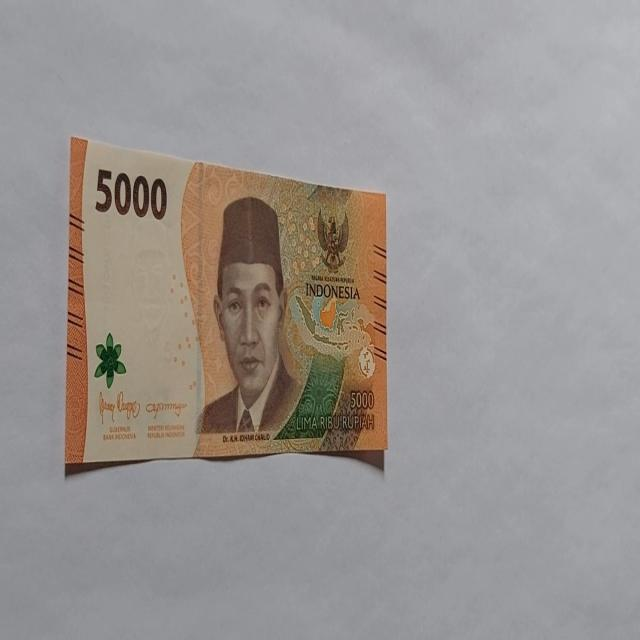lima ribu rupiah: (64, 134, 388, 474), (193, 194, 305, 440)
